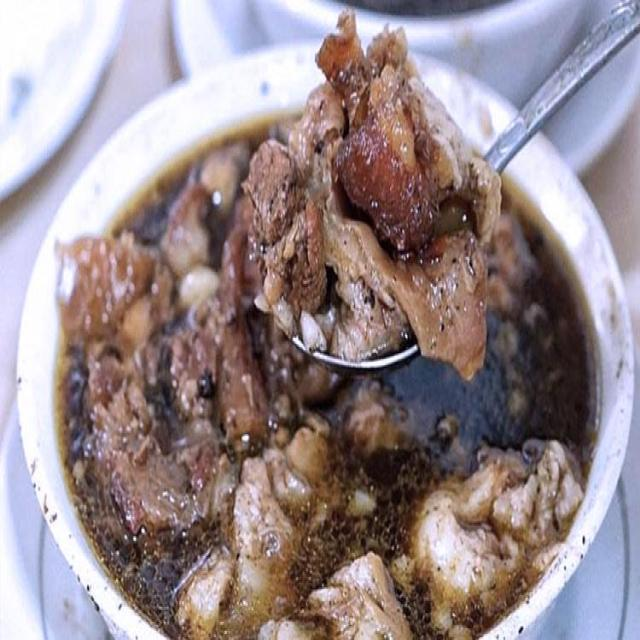Rawon: (50, 104, 583, 624)
